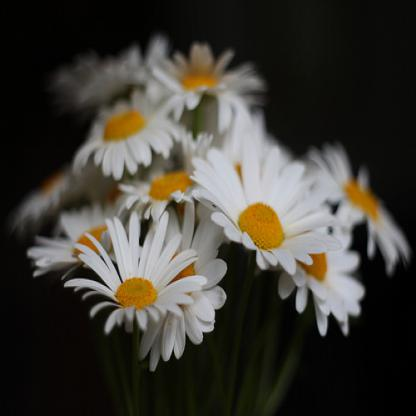ASTER: (18, 31, 408, 371)
